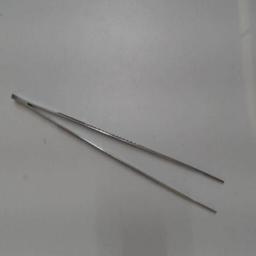DeBakey Dissector: (8, 90, 228, 222)
